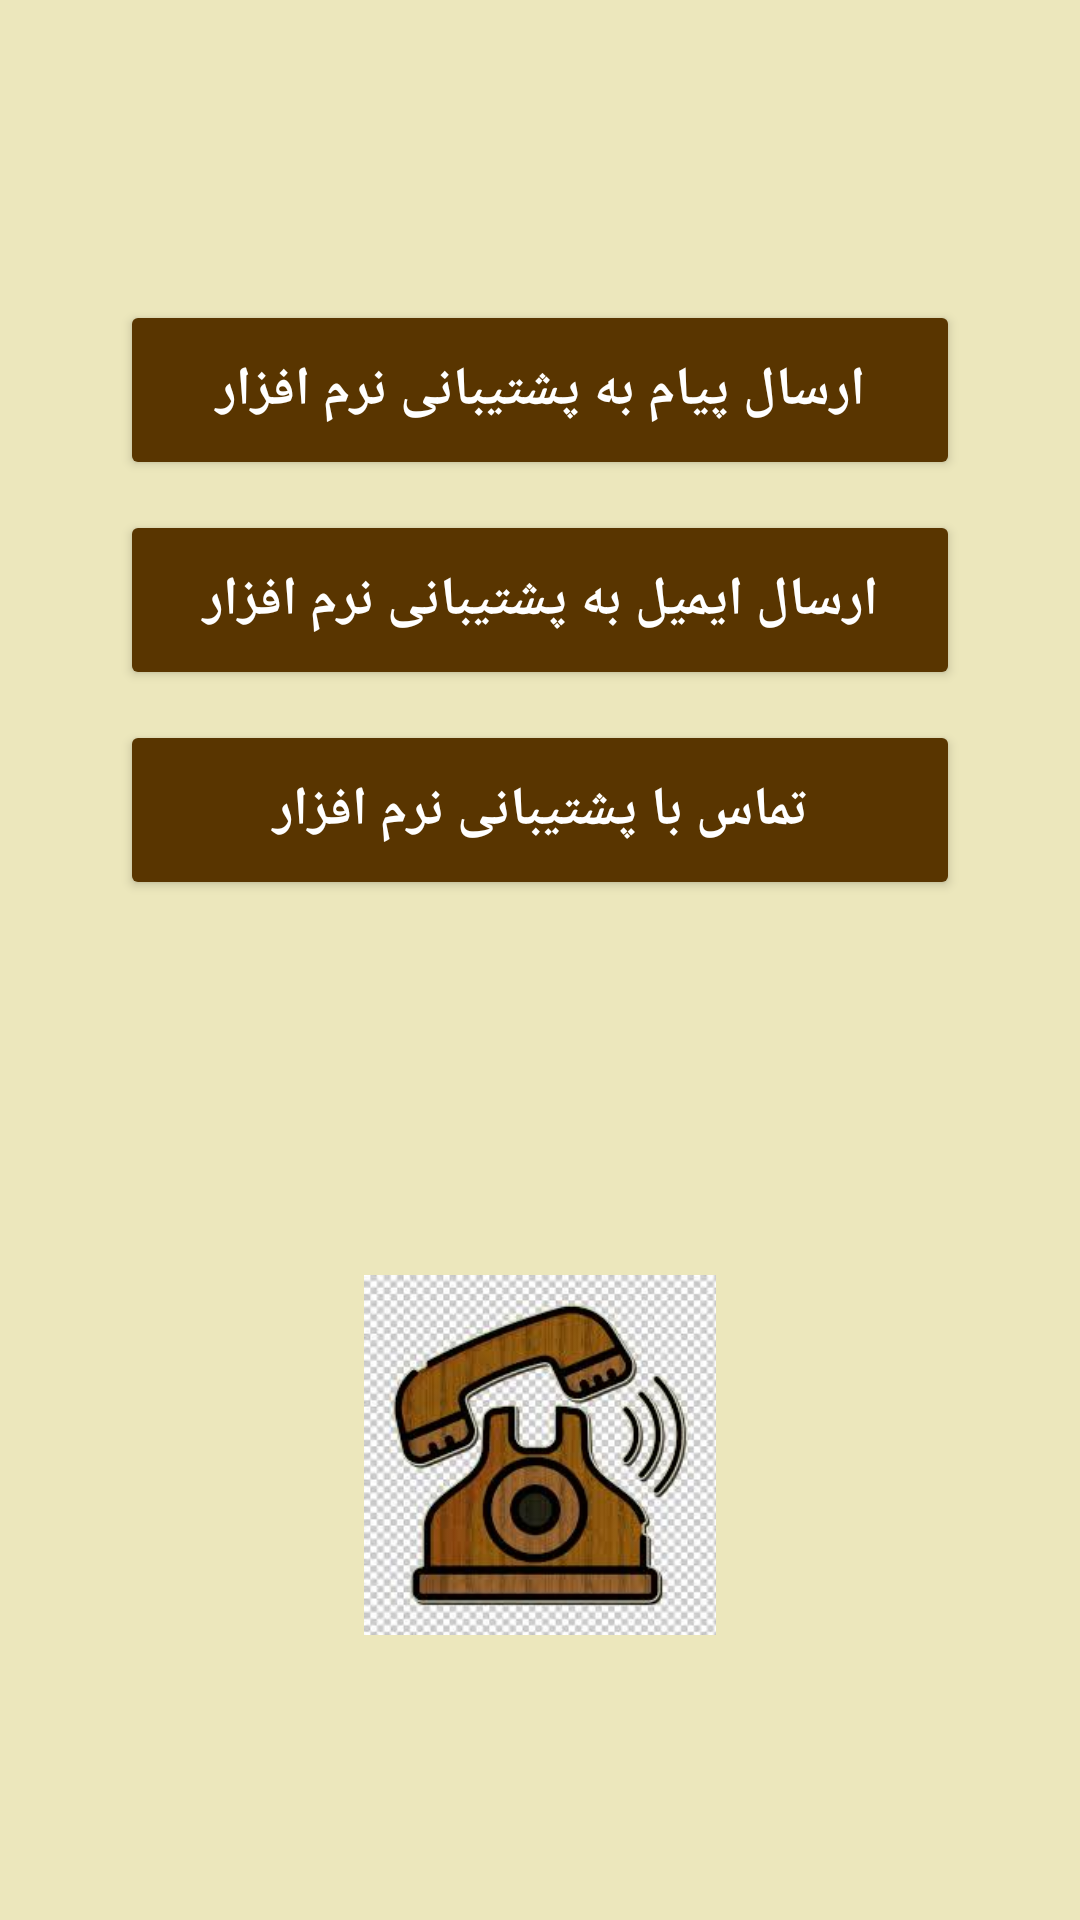

Named icons in this screenshot (1080 × 1920) and their bounding boxes, (x1, y1, x2, y2):
call: (364, 1275, 716, 1635)
